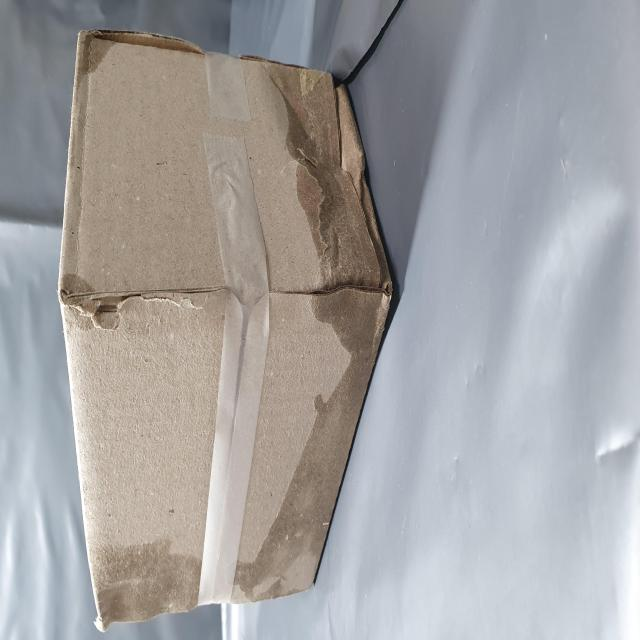wet: (29, 424, 329, 640), (7, 179, 59, 366), (304, 128, 345, 208)
